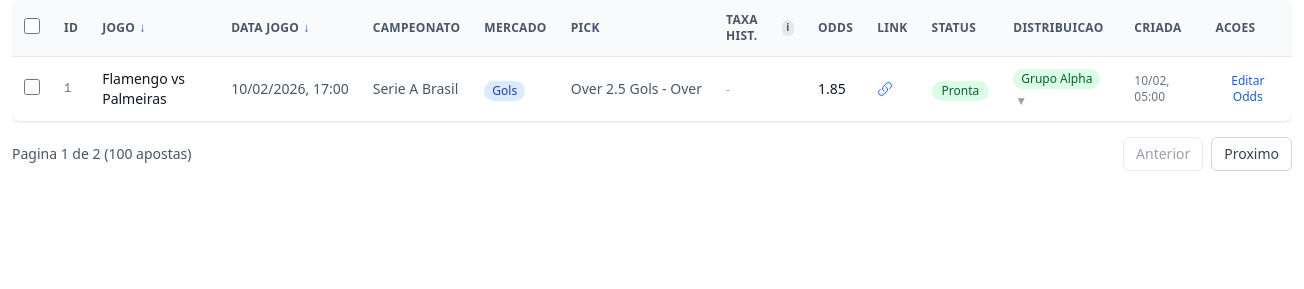
Test: BetTable › shows expandable assignment details on click
Note: Click the distribution chips to expand
Click the button with aria-label "Expandir detalhes" at [1062, 89], box [1013,69,1110,109]
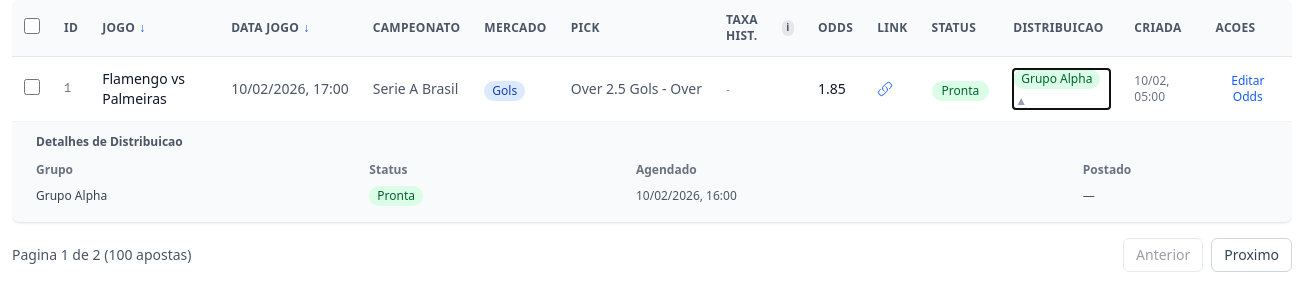
Result: the text "Detalhes de Distribuicao" is shown at [36,133,183,150]
